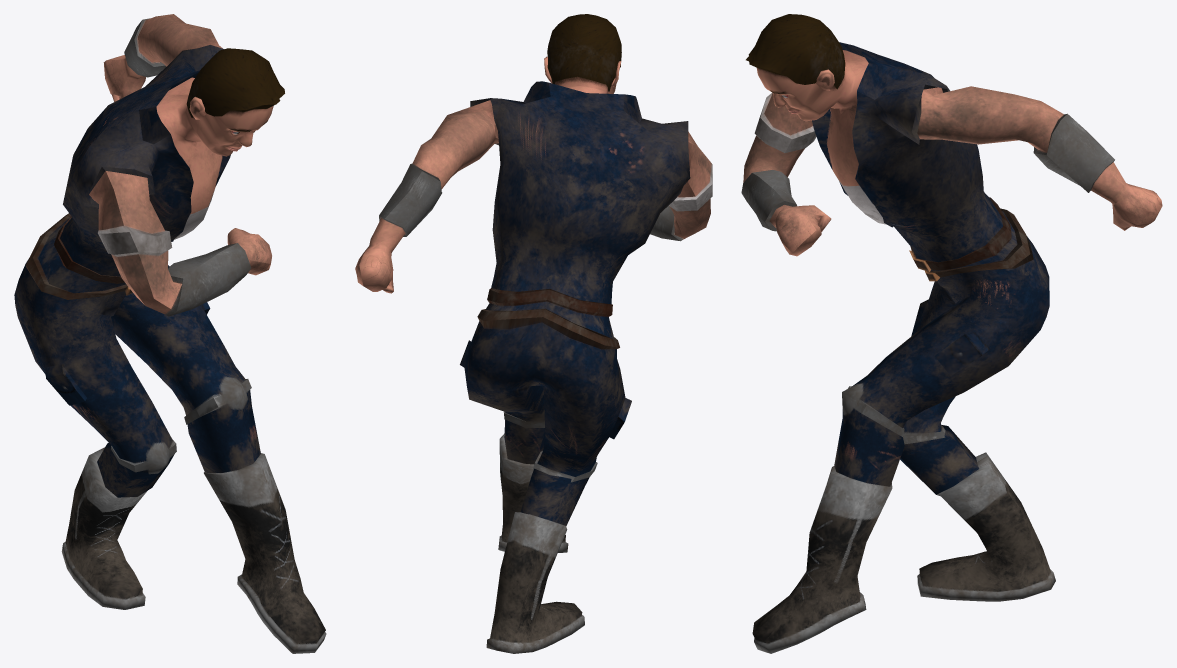
File: Anim_dash_jugador.0024.obj
3 views of the same model, side by side, from view 1: azimuth 30°, elevation 25°; view 2: azimuth 150°, elevation 25°; view 3: azimuth 270°, elevation 25° (orthographic). The views are drawn at different scales.
Parts seen in each view (by area): view 1: polySurface1; view 2: polySurface1; view 3: polySurface1.
Boxes of the visible parts, x1,y1,x2,y2 form: polySurface1: [14, 14, 326, 653]; polySurface1: [355, 14, 712, 653]; polySurface1: [741, 14, 1162, 653].
Bounding box in the file's own units: 2.98 × 8.14 × 5.14.
